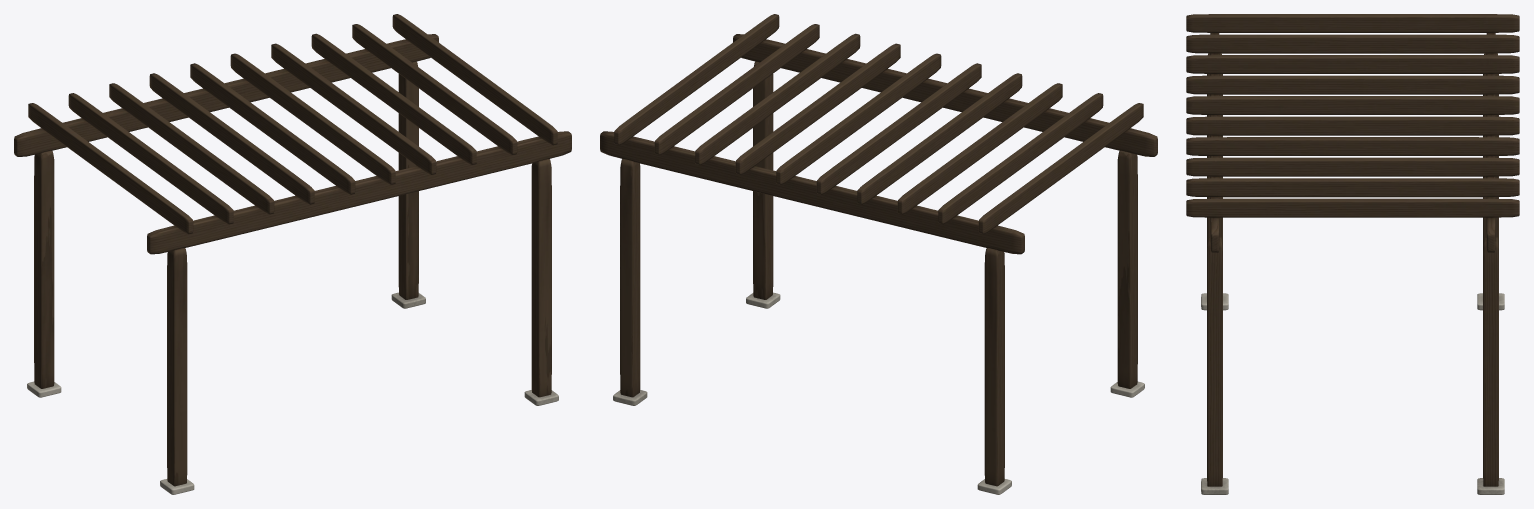
Rendered from dark-wide.glb.
3 views of the same model, side by side, from view 1: azimuth 30°, elevation 25°; view 2: azimuth 150°, elevation 25°; view 3: azimuth 270°, elevation 25° (orthographic). The views are drawn at different scales.
Parts seen in each view (by area): view 1: wood_y, wood_z, wood_x, footing_stone; view 2: wood_y, wood_z, wood_x, footing_stone; view 3: wood_y, wood_z, footing_stone, wood_x.
Part boxes in pixels (left/top/right/bottom): wood_y: left=28, top=14, right=557, bottom=234; wood_z: left=34, top=61, right=551, bottom=486; wood_x: left=14, top=34, right=571, bottom=254; footing_stone: left=27, top=292, right=558, bottom=494; wood_y: left=614, top=14, right=1143, bottom=234; wood_z: left=620, top=61, right=1137, bottom=486; wood_x: left=600, top=34, right=1157, bottom=254; footing_stone: left=613, top=292, right=1144, bottom=494; wood_y: left=1186, top=14, right=1519, bottom=217; wood_z: left=1207, top=53, right=1498, bottom=486; footing_stone: left=1201, top=293, right=1504, bottom=494; wood_x: left=1210, top=33, right=1495, bottom=252.
Bounding box in the file's own units: 4.4 × 2.78 × 2.9.
Materials: 4 (4 with a texture image).
